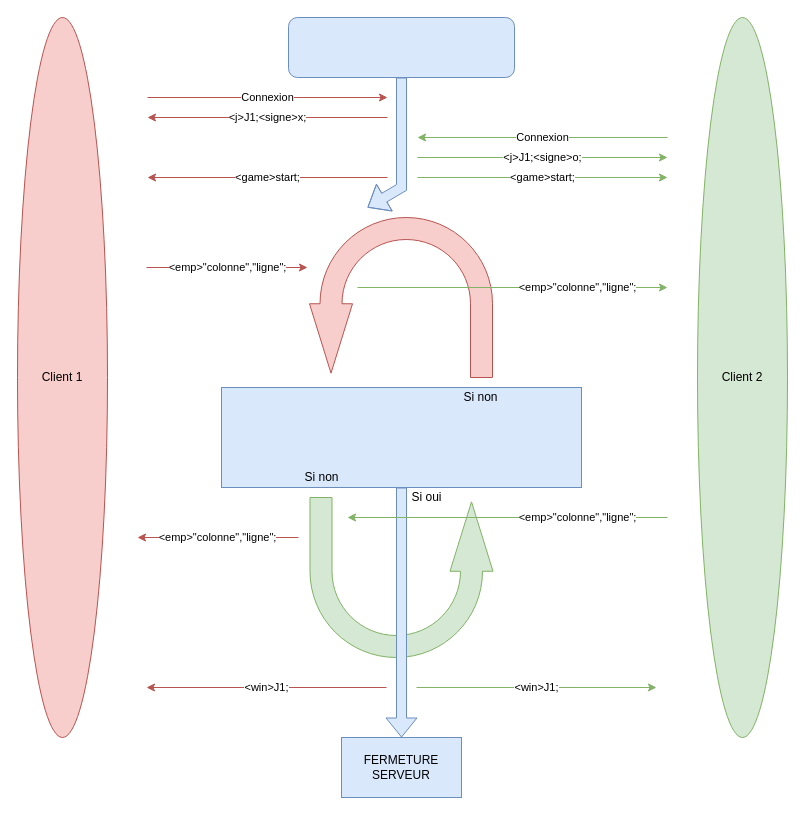
The diagram is 805 pixels wide and 815 high, and some of its shapes have lost their labels. Here are the shapes that lost their labels. From the top down, the box of each, then its label:
(288, 16, 514, 78): LANCEMENT SERVEUR En attente de connexions de 2 clients
(220, 386, 582, 488): Vérification si la partie est terminée (Vainqueur ou égalité)
